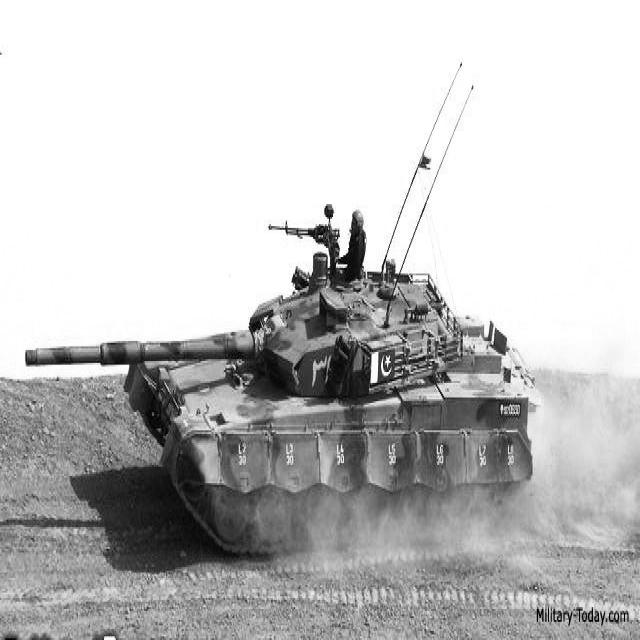Tank: (22, 252, 552, 562)
